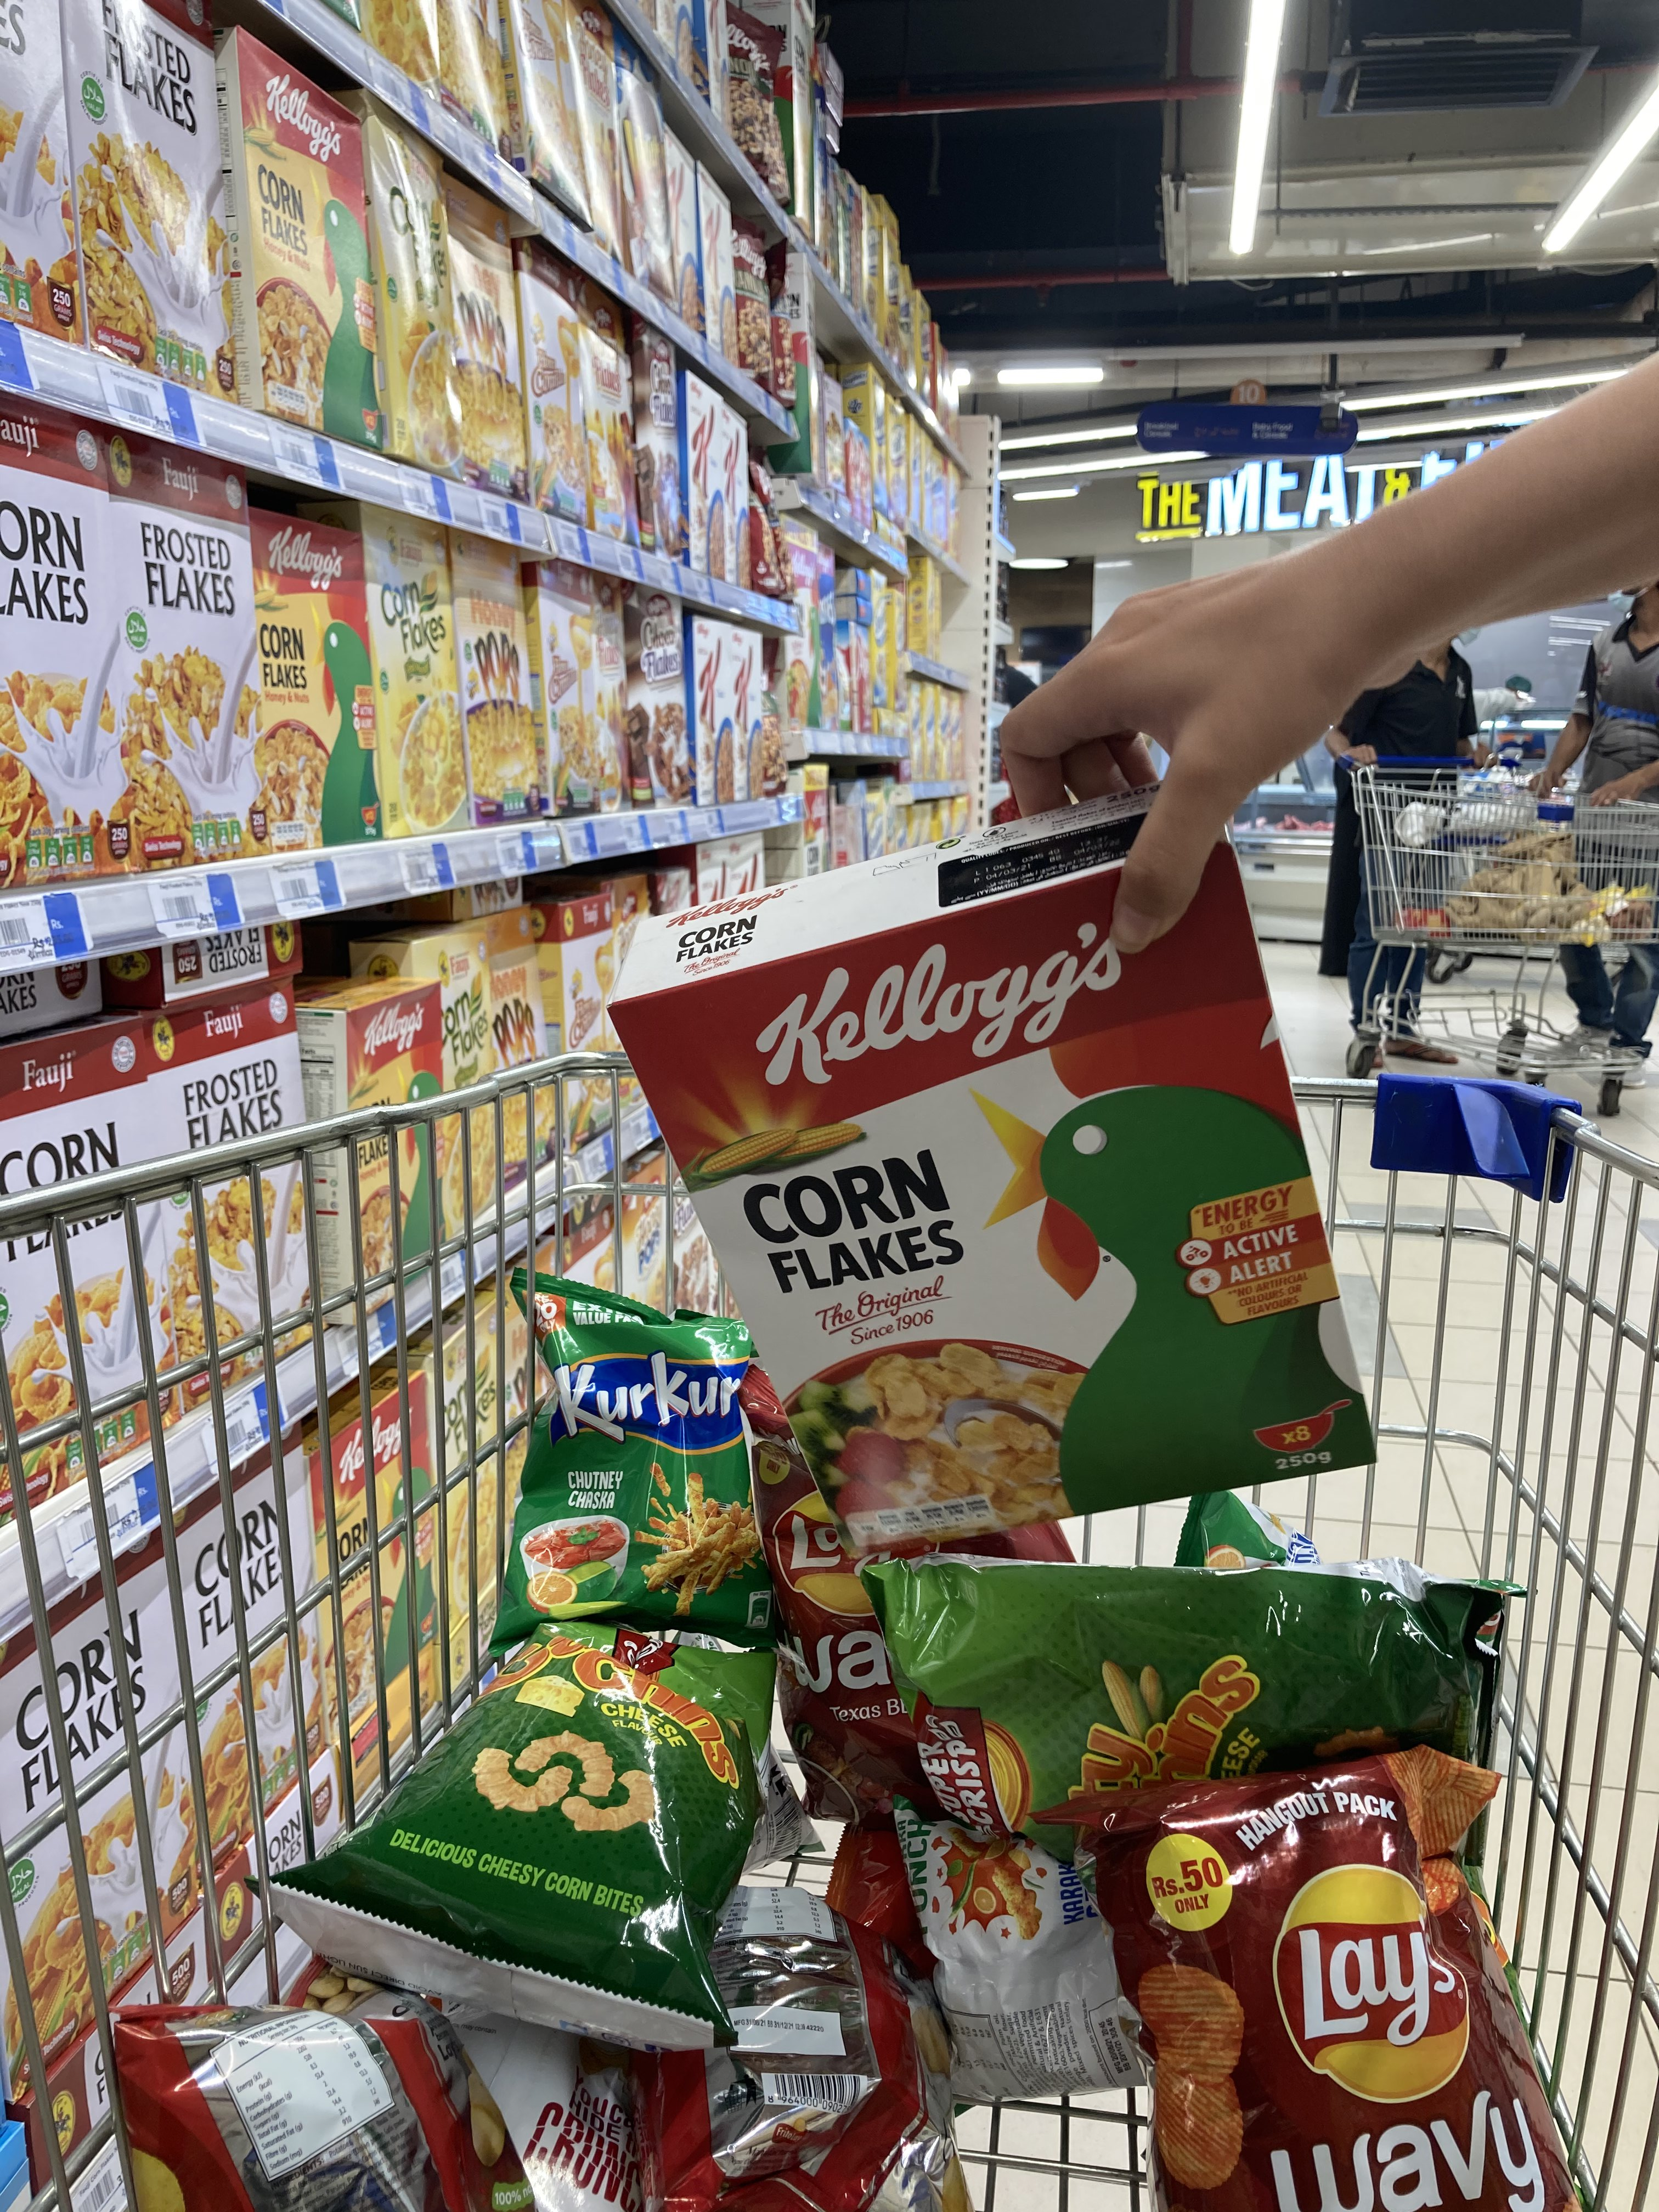Kellogg's Corn Flakes: (608, 824, 1387, 1541)
